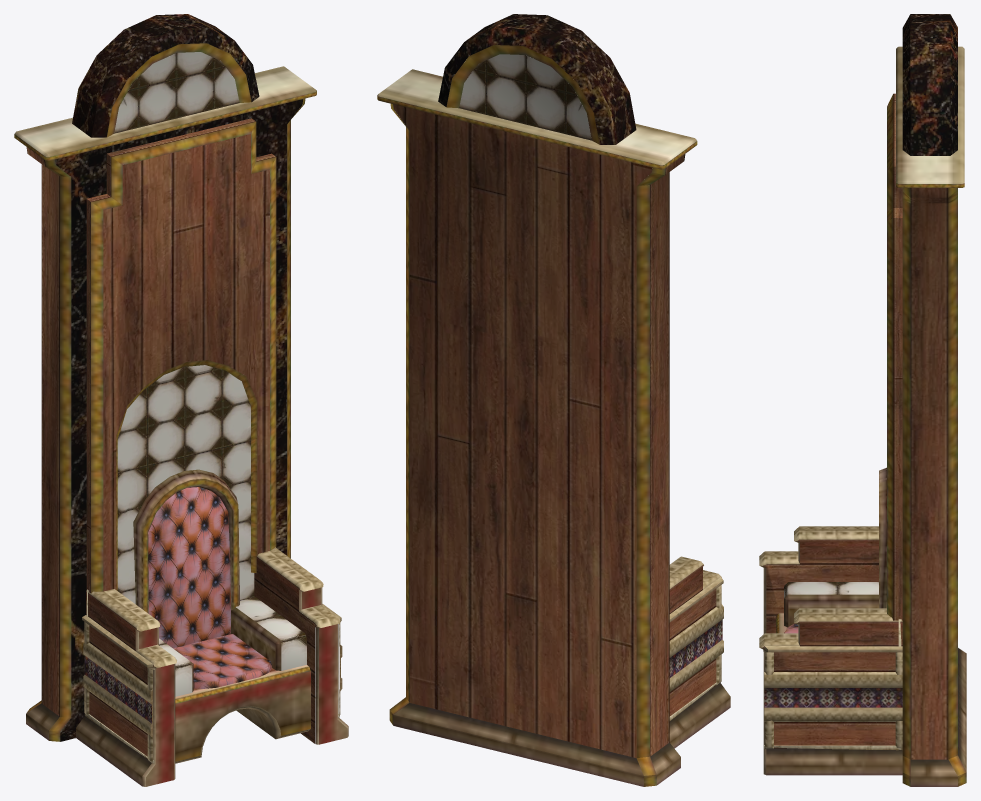
File: o_mdl_env_propFurnitureThroneLevant-transformed.glb
3 renders of one model, left to right at view 1: azimuth 30°, elevation 25°; view 2: azimuth 150°, elevation 25°; view 3: azimuth 270°, elevation 25°, orthographic. The views are drawn at different scales.
Parts seen in each view (by area): view 1: default; view 2: default; view 3: default.
Boxes of the visible parts, left/top/right/bottom form: default: left=14, top=14, right=348, bottom=786; default: left=377, top=14, right=730, bottom=786; default: left=759, top=14, right=966, bottom=786.
Size of the model in its own units: 1.86 by 4.47 by 1.2.
5 materials, 5 textured.
